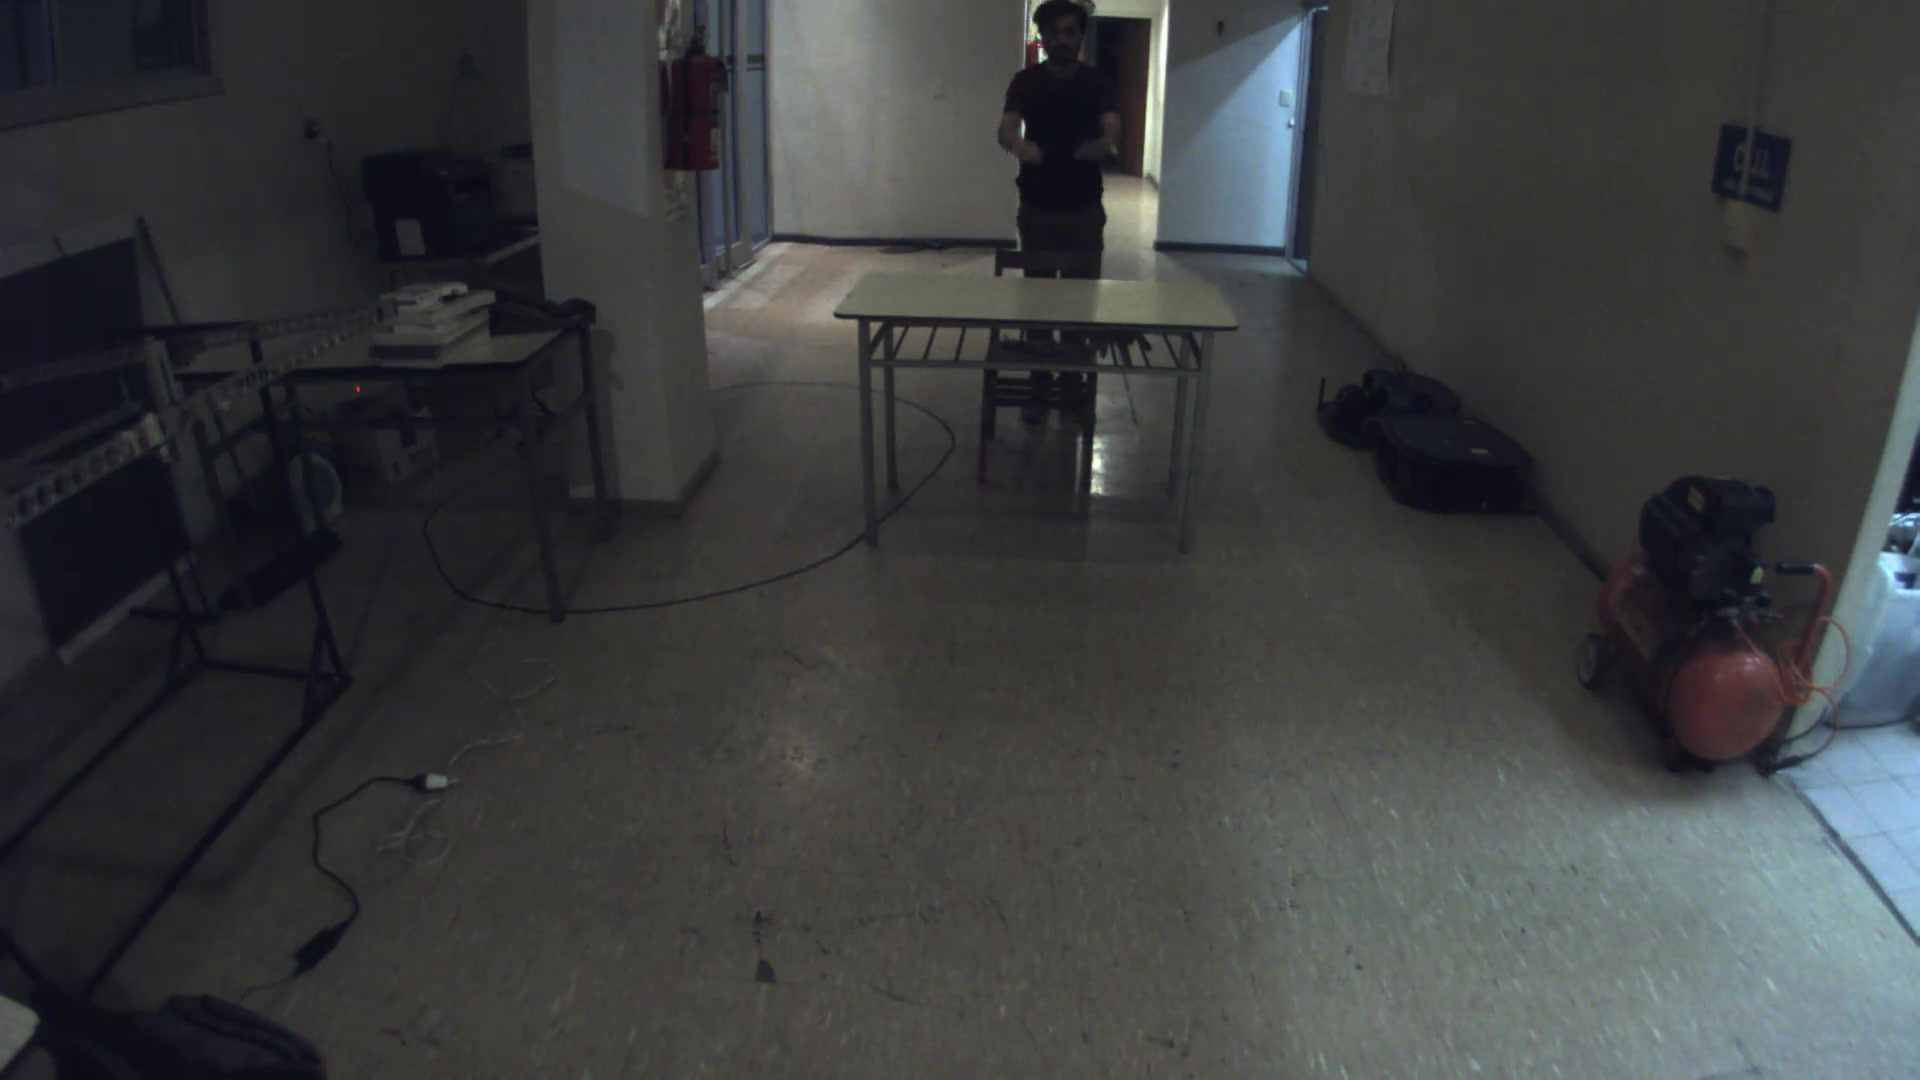hand: (1062, 128, 1131, 170), (1004, 129, 1056, 167)
